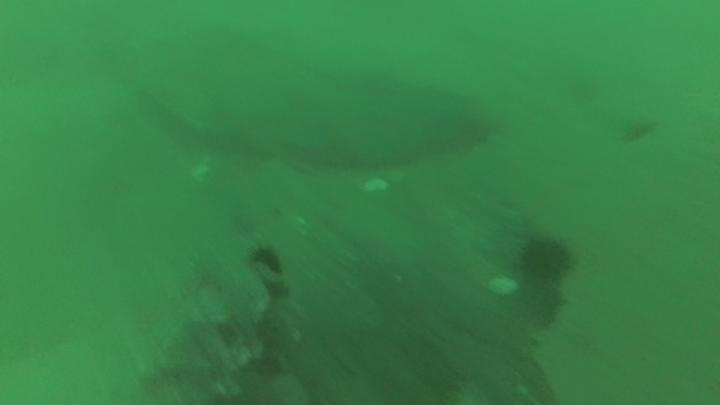echinus: (516, 232, 574, 285), (516, 280, 565, 330), (247, 242, 286, 278)
